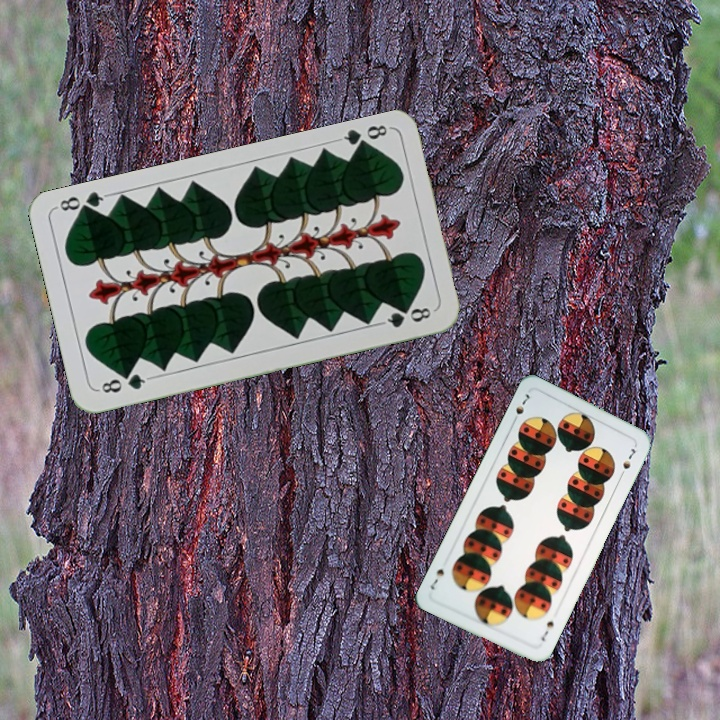G8: (334, 120, 392, 154), (94, 369, 153, 396)
S7: (508, 389, 533, 426), (537, 615, 557, 644)
